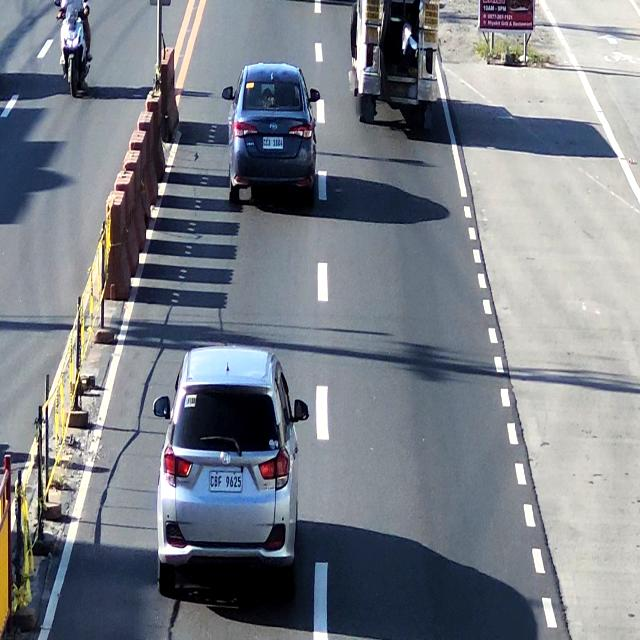Car: (153, 346, 301, 596), (220, 60, 316, 208)
Jeep: (350, 0, 438, 135)
License-Plate: (208, 469, 246, 495), (261, 134, 285, 152)
